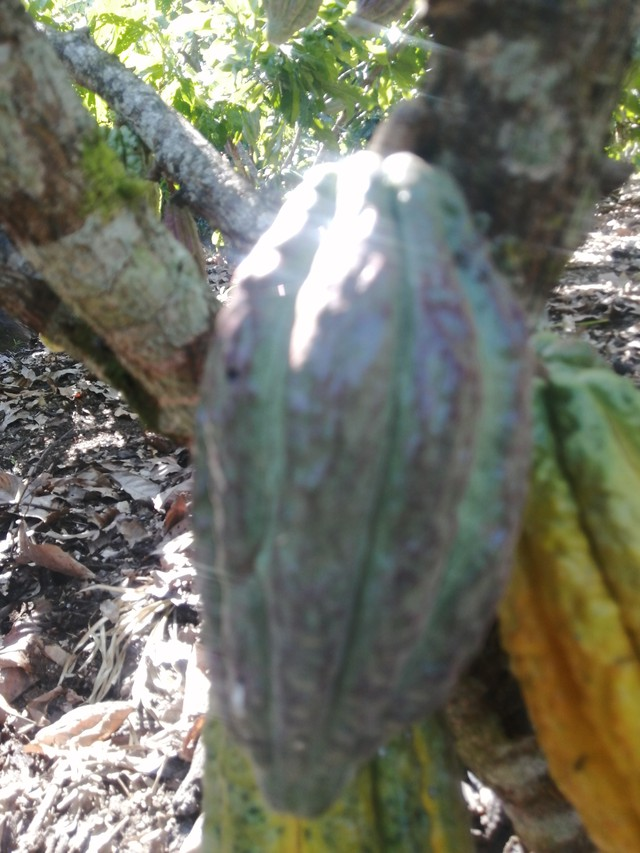Health: (156, 136, 546, 828)
